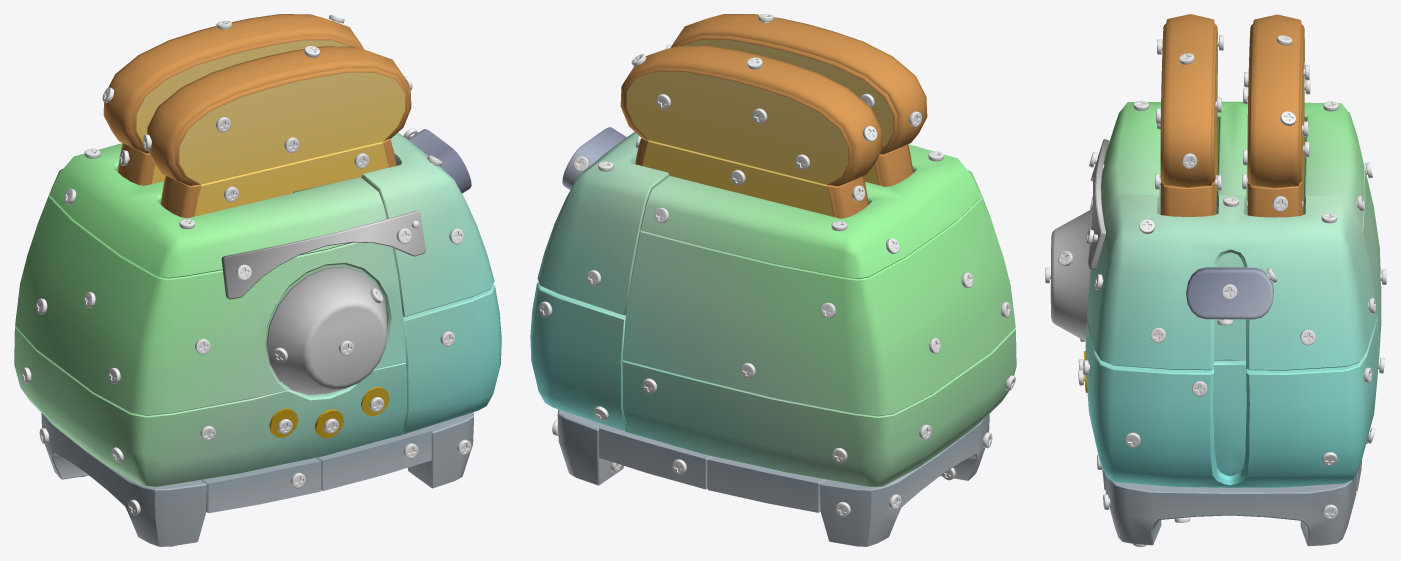
Rendered from Level_192.fbx.
3 views of the same model, side by side, from view 1: azimuth 30°, elevation 25°; view 2: azimuth 150°, elevation 25°; view 3: azimuth 270°, elevation 25° (orthographic).
Parts seen in each view (by area): view 1: Cube_L3 4.005, Cube_L3 2.005, Cube_L1 4.008, Cube_L3 3.005, Cube_L1 3.010, Cube_L2 2.008, Cube_L3 1.005, Cube_L3.006, Cube_L2 4.007, Cube_L1 1.010, Cube_L1 2.010, Cube_L2 3.008 (+4 smaller); view 2: Cube_L3 4.005, Cube_L3 2.005, Cube_L1 3.010, Cube_L3 3.005, Cube_L3 1.005, Cube_L1 4.008, Cube_L3.006, Cube_L2 4.007, Cube_L1.011, Cube_L2 3.008, Cube_L2 1.008, Cube_L2.009 (+2 smaller); view 3: Cube_L3 1.005, Cube_L3.006, Cube_L3 3.005, Cube_L2.009, Cube_L1 3.010, Cube_L1 4.008, Cube_L2 2.008, Cube_L1 7.007, Cube_L1 1.010, Cube_L1.011, Cube_L3 4.005, Cube_L1 2.010.
Part boxes in pixels (bbox=[...]): Cube_L3 4.005: bbox=[15, 192, 406, 415]; Cube_L3 2.005: bbox=[14, 326, 406, 487]; Cube_L1 4.008: bbox=[147, 46, 411, 185]; Cube_L3 3.005: bbox=[49, 143, 386, 278]; Cube_L1 3.010: bbox=[103, 14, 363, 153]; Cube_L2 2.008: bbox=[266, 267, 387, 394]; Cube_L3 1.005: bbox=[361, 132, 494, 316]; Cube_L3.006: bbox=[401, 284, 501, 435]; Cube_L2 4.007: bbox=[41, 413, 206, 546]; Cube_L1 1.010: bbox=[160, 139, 396, 218]; Cube_L1 2.010: bbox=[221, 211, 425, 299]; Cube_L2 3.008: bbox=[201, 458, 321, 513]; Cube_L3 4.005: bbox=[622, 194, 1015, 416]; Cube_L3 2.005: bbox=[622, 328, 1016, 487]; Cube_L1 3.010: bbox=[620, 45, 882, 186]; Cube_L3 3.005: bbox=[640, 144, 981, 278]; Cube_L3 1.005: bbox=[537, 132, 669, 315]; Cube_L1 4.008: bbox=[670, 14, 927, 154]; Cube_L3.006: bbox=[530, 282, 628, 432]; Cube_L2 4.007: bbox=[820, 414, 989, 546]; Cube_L1.011: bbox=[635, 137, 868, 218]; Cube_L2 3.008: bbox=[707, 456, 825, 512]; Cube_L2 1.008: bbox=[599, 425, 712, 489]; Cube_L2.009: bbox=[557, 409, 623, 485]; Cube_L3 1.005: bbox=[1087, 194, 1377, 370]; Cube_L3.006: bbox=[1085, 319, 1378, 487]; Cube_L3 3.005: bbox=[1101, 101, 1364, 229]; Cube_L2.009: bbox=[1105, 472, 1356, 546]; Cube_L1 3.010: bbox=[1247, 14, 1304, 188]; Cube_L1 4.008: bbox=[1160, 14, 1217, 187]; Cube_L2 2.008: bbox=[1050, 209, 1092, 341]; Cube_L1 7.007: bbox=[1186, 267, 1273, 319]; Cube_L1 1.010: bbox=[1160, 112, 1217, 216]; Cube_L1.011: bbox=[1247, 98, 1304, 217]; Cube_L3 4.005: bbox=[1085, 142, 1381, 360]; Cube_L1 2.010: bbox=[1088, 139, 1108, 269].
Size of the model in its own units: 15.06 by 16.19 by 11.51.
